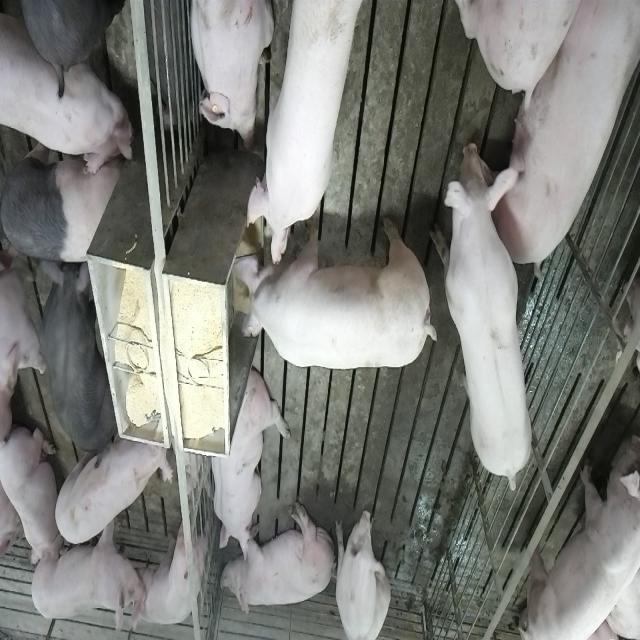Feeding: (232, 211, 439, 364), (246, 8, 362, 274)
Lateral_lying: (221, 500, 337, 620)
Sitting: (333, 496, 390, 638)
Standing: (435, 144, 537, 495), (523, 434, 640, 640), (2, 1, 134, 182), (2, 125, 126, 268), (36, 258, 116, 456), (51, 422, 169, 545), (27, 509, 146, 623), (130, 507, 204, 625), (10, 1, 121, 66)
Sternal_lying: (207, 366, 287, 562), (185, 0, 272, 148), (3, 420, 61, 570)
